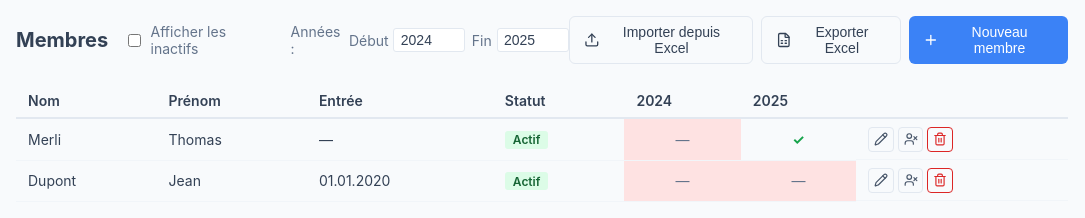
Plage d'années configurable › une saisie invalide au blur (champ vide) revient à la dernière valeur valide sans sauvegarder
expect the text "Merli" is shown: met, box [16, 118, 156, 160]
Clear the field labelled "Fin". click: {"x": 532, "y": 40}
box: [496, 28, 568, 52]
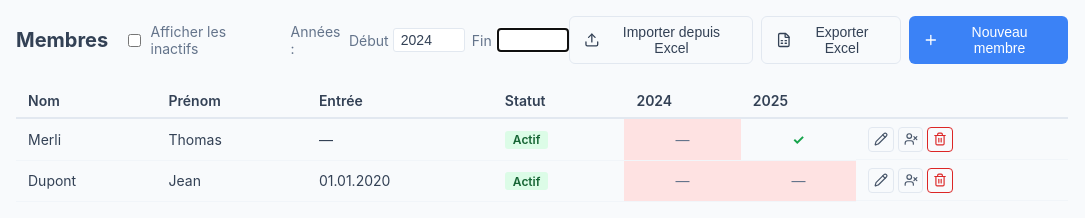
Press Tab
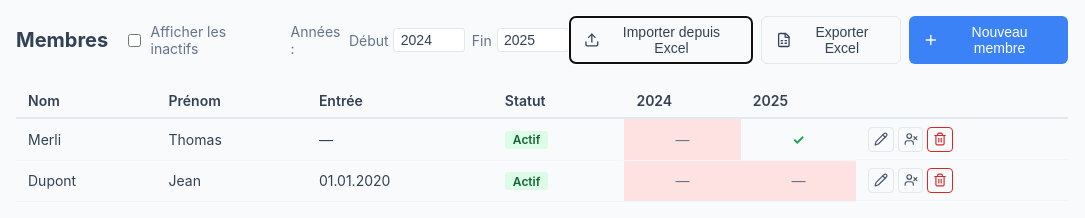
expect the field labelled "Fin" holds "2025": met, box [496, 28, 568, 52]
